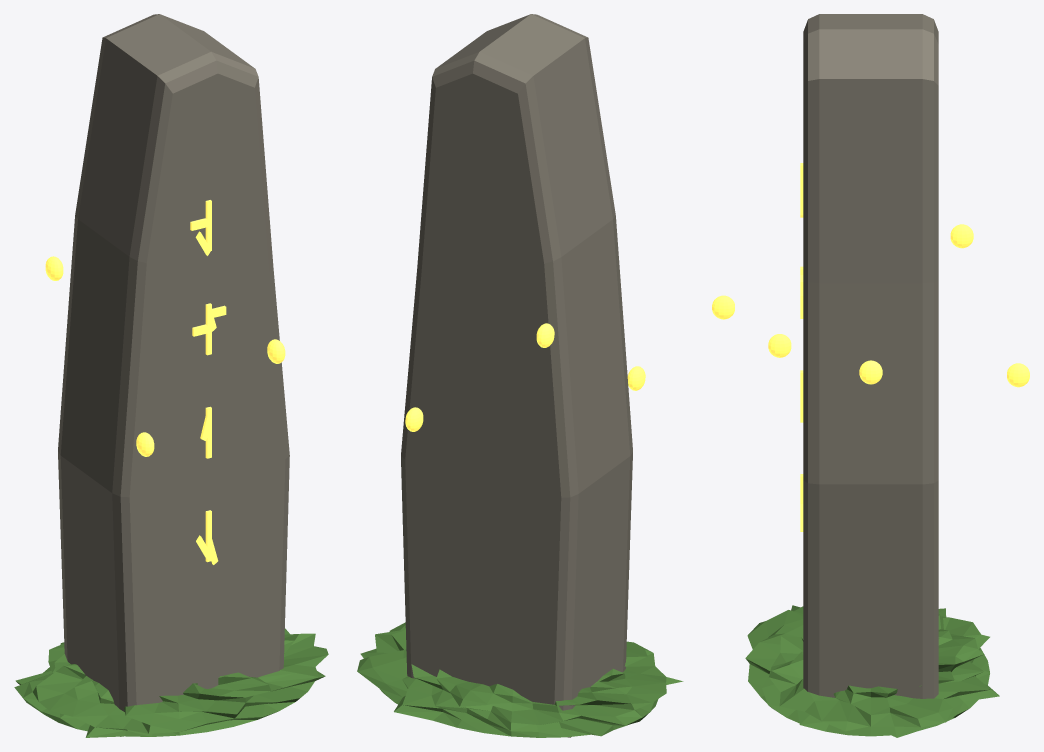
The model's file is poi-lore-stone.glb.
3 views of the same model, side by side, from view 1: azimuth 30°, elevation 25°; view 2: azimuth 150°, elevation 25°; view 3: azimuth 270°, elevation 25° (orthographic).
Parts seen in each view (by area): view 1: Body_Stone, Body_Plant, Body_Glow, Spin_Glow; view 2: Body_Stone, Body_Plant, Spin_Glow; view 3: Body_Stone, Body_Plant, Spin_Glow, Body_Glow.
Boxes of the visible parts, x1,y1,x2,y2 form: Body_Stone: [58, 14, 289, 736]; Body_Plant: [14, 628, 328, 737]; Body_Glow: [190, 200, 226, 564]; Spin_Glow: [45, 256, 285, 456]; Body_Stone: [401, 14, 632, 737]; Body_Plant: [357, 622, 683, 737]; Spin_Glow: [405, 323, 645, 431]; Body_Stone: [803, 14, 938, 698]; Body_Plant: [745, 605, 999, 737]; Spin_Glow: [712, 224, 1029, 387]; Body_Glow: [800, 163, 803, 531].
Bounding box in the file's own units: 0.8 × 1.8 × 0.78.
